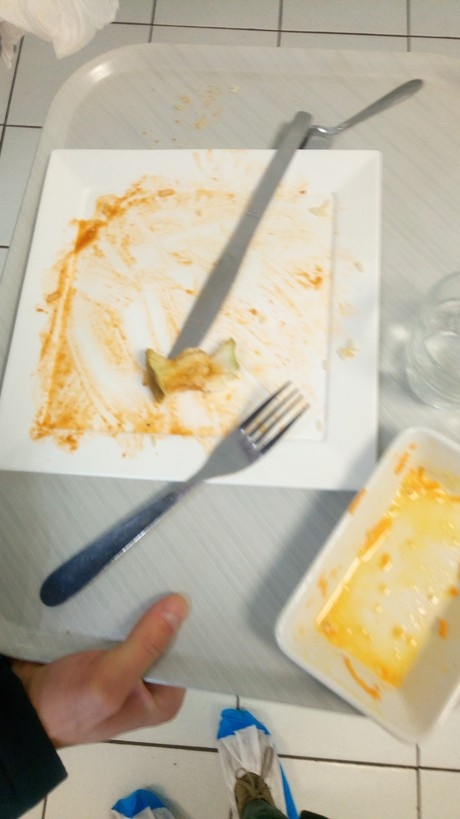orga: (142, 345, 243, 408)
